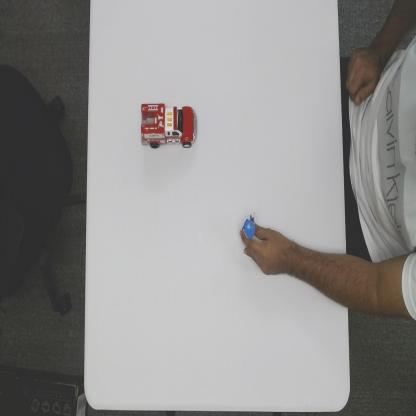Arm: (284, 235, 348, 313)
Firetruck: (140, 100, 198, 150)
Hand: (242, 224, 282, 276)
